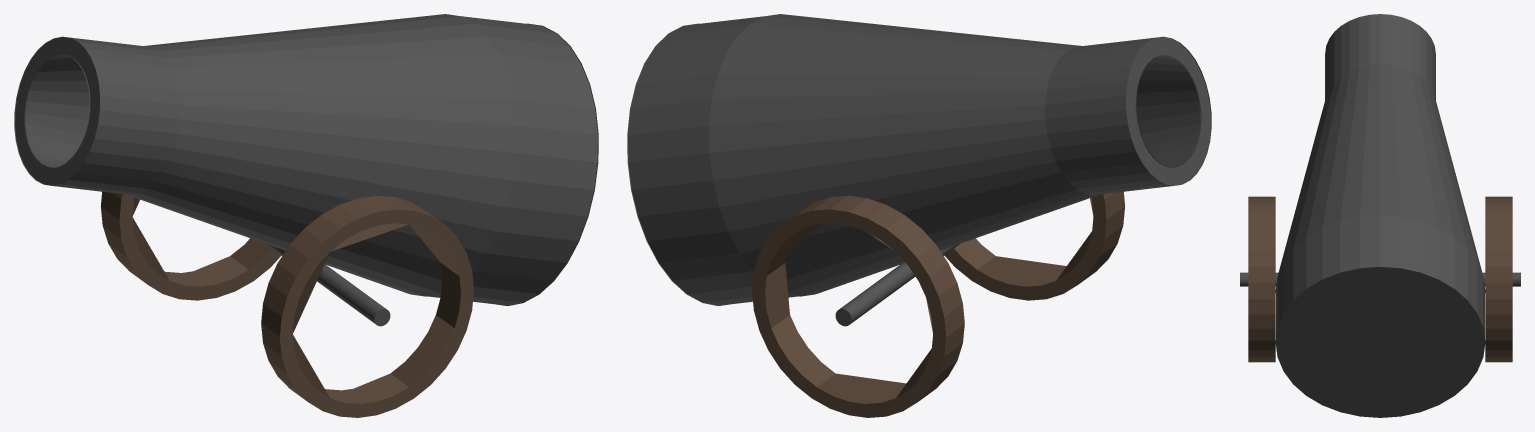
Rendered from tarimaYcañon_v3.fbx.
3 views of the same model, side by side, from view 1: azimuth 30°, elevation 25°; view 2: azimuth 150°, elevation 25°; view 3: azimuth 270°, elevation 25° (orthographic). The views are drawn at different scales.
Visible parts, largest first — view 1: Cañon, RuedaIzq, RuedaDer, Eje; view 2: Cañon, RuedaDer, RuedaIzq, Eje; view 3: Cañon, RuedaIzq, RuedaDer, Eje.
Part boxes in pixels (bbox=[...]): Cañon: bbox=[14, 14, 598, 305]; RuedaIzq: bbox=[261, 195, 473, 417]; RuedaDer: bbox=[100, 191, 281, 300]; Eje: bbox=[266, 244, 390, 326]; Cañon: bbox=[627, 14, 1211, 305]; RuedaDer: bbox=[752, 195, 964, 417]; RuedaIzq: bbox=[944, 191, 1125, 300]; Eje: bbox=[835, 244, 959, 326]; Cañon: bbox=[1275, 14, 1485, 417]; RuedaIzq: bbox=[1248, 196, 1275, 362]; RuedaDer: bbox=[1485, 196, 1512, 362]; Eje: bbox=[1240, 272, 1520, 286].
Size of the model in its own units: 322 by 213 by 203.
